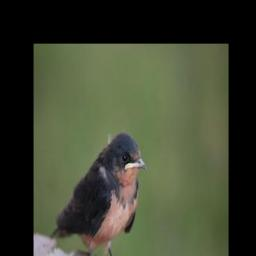Swallow: (50, 130, 147, 256)
